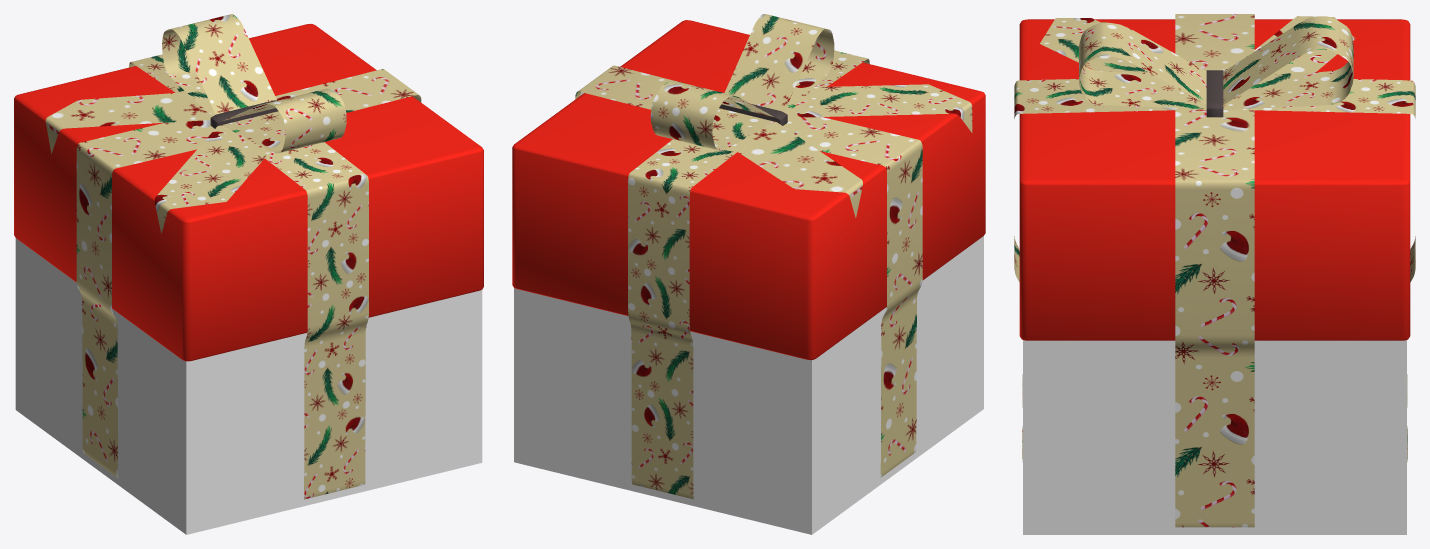
File: Presente.fbx
3 views of the same model, side by side, from view 1: azimuth 30°, elevation 25°; view 2: azimuth 150°, elevation 25°; view 3: azimuth 270°, elevation 25° (orthographic). The views are drawn at different scales.
Visible parts, largest first — view 1: Cube.001, Cube__1_, Plane.001, Plane, Plane.002, Plane.004, Plane.003, Plane.005, Cube.002; view 2: Cube.001, Cube__1_, Plane.001, Plane, Plane.003, Plane.002, Plane.004, Plane.005, Cube.002; view 3: Cube.001, Cube__1_, Plane, Plane.002, Plane.003, Plane.001, Plane.004, Plane.005, Cube.002.
Boxes of the visible parts, x1,y1,x2,y2 form: Cube.001: (14,24,483,361); Cube__1_: (15,238,482,534); Plane.001: (129,54,368,499); Plane: (76,69,421,478); Plane.002: (162,14,276,116); Plane.004: (154,125,270,233); Plane.003: (221,88,346,153); Plane.005: (45,92,212,153); Cube.002: (210,100,278,128); Cube.001: (512,20,985,360); Cube__1_: (514,236,983,534); Plane.001: (628,50,869,499); Plane: (575,65,922,477); Plane.003: (724,14,834,113); Plane.002: (650,80,774,150); Plane.004: (787,84,972,132); Plane.005: (730,122,862,218); Cube.002: (719,104,787,125); Cube.001: (1019,19,1410,340); Cube__1_: (1023,340,1406,534); Plane: (1175,14,1254,527); Plane.002: (1223,16,1353,109); Plane.003: (1079,22,1206,108); Plane.001: (1014,79,1415,461); Plane.004: (1040,18,1149,73); Plane.005: (1248,16,1355,74); Cube.002: (1206,70,1223,117).
Bounding box in the file's own units: 105 × 122 × 105.
